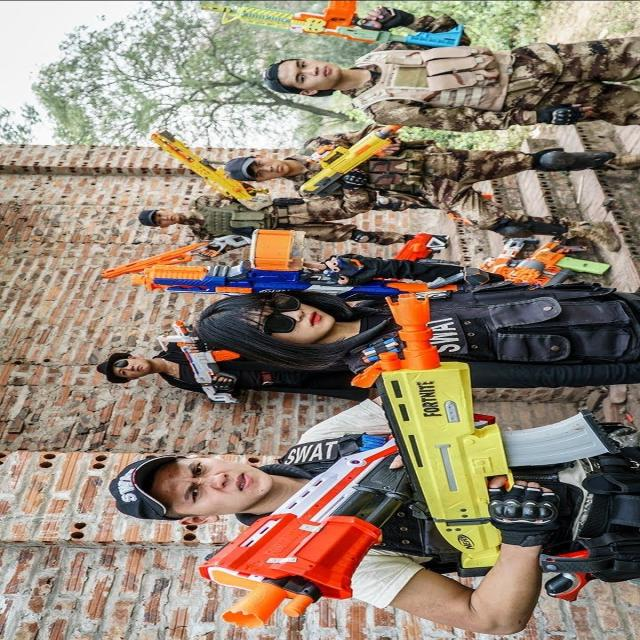Nerf gun: (354, 284, 616, 582), (190, 441, 404, 632), (116, 229, 455, 302), (192, 0, 476, 50), (139, 124, 281, 216), (294, 115, 419, 200), (472, 222, 605, 299), (98, 226, 252, 285), (152, 322, 250, 408)
